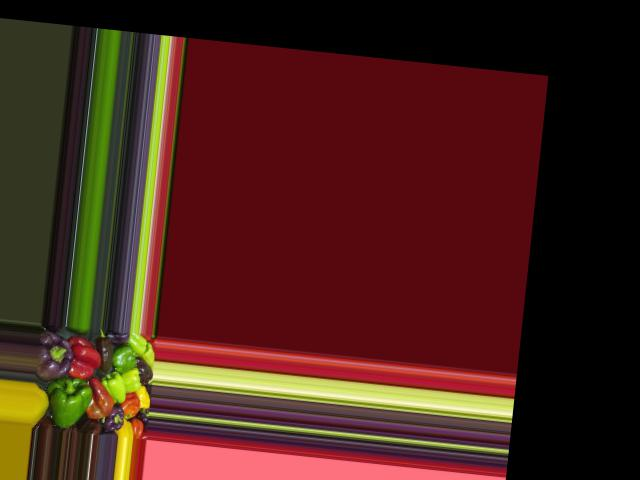bell_pepper: (101, 404, 129, 435)
